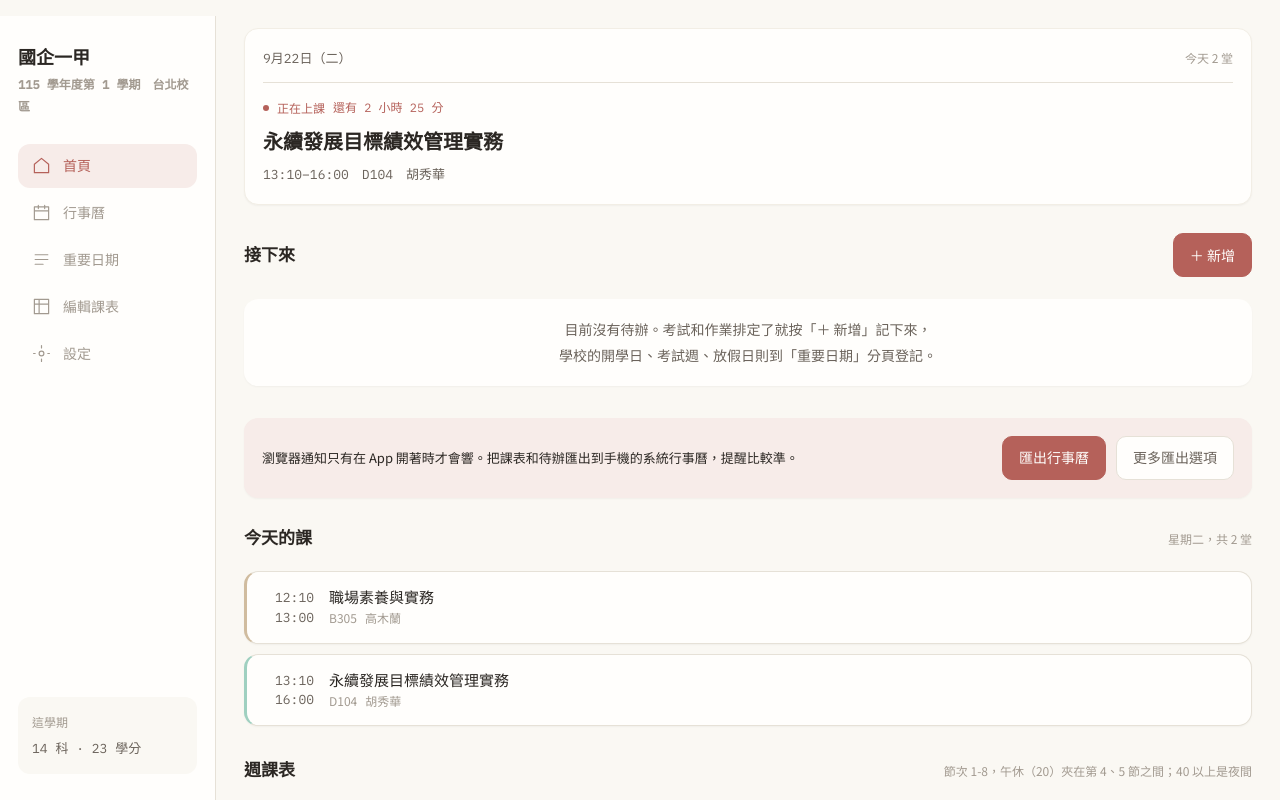
新增學校重要日期 › 空的時候有引導文案，不是空白
Click the button "重要日期" at point(108, 260), box [18, 238, 197, 282]
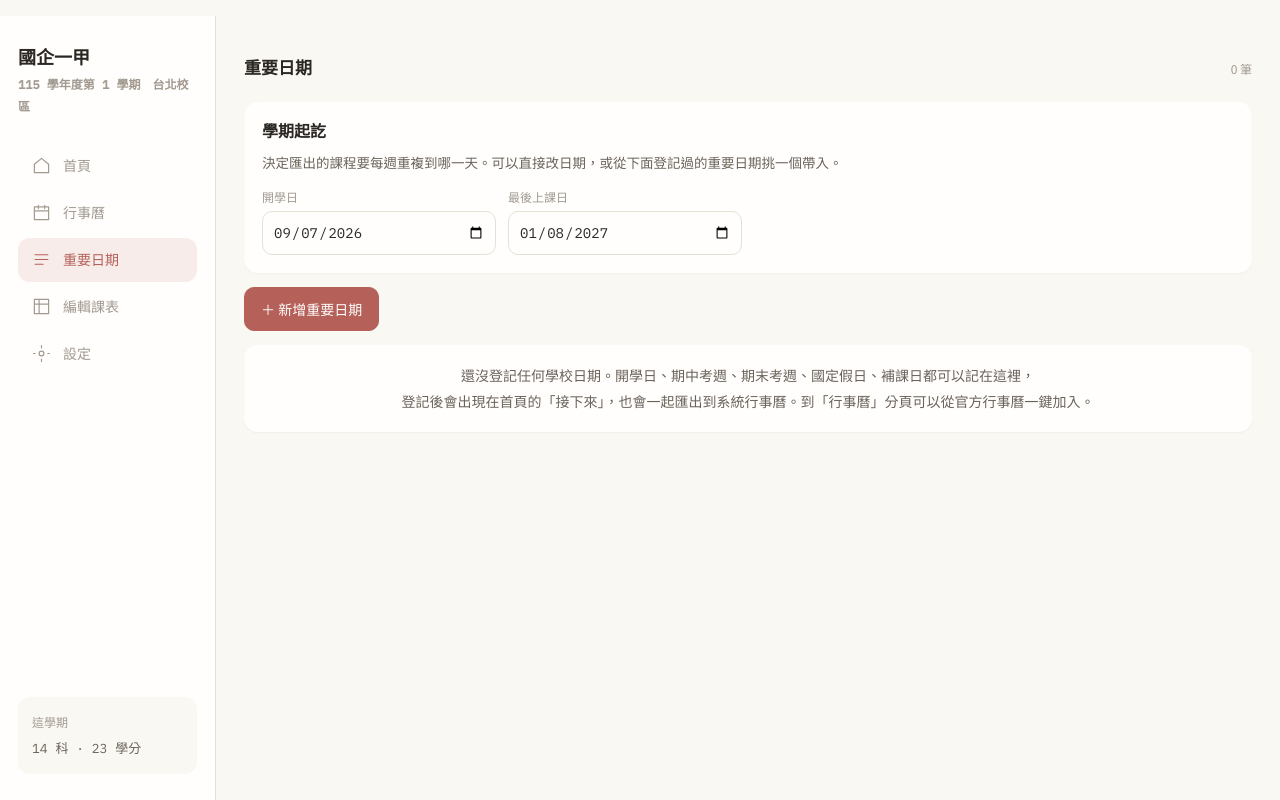
Expected: the text "還沒登記任何學校日期" is shown, [461, 365, 1035, 385]
